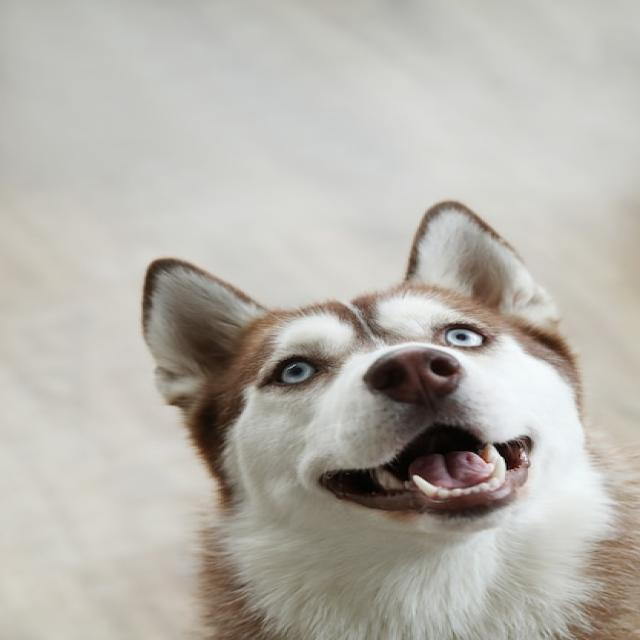Dog: (141, 200, 640, 640)
